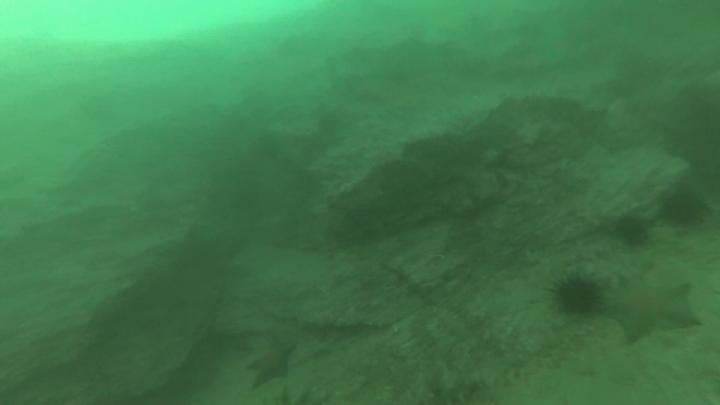echinus: (554, 280, 598, 316), (613, 214, 646, 246)
starfish: (606, 277, 702, 345), (244, 339, 294, 390)
